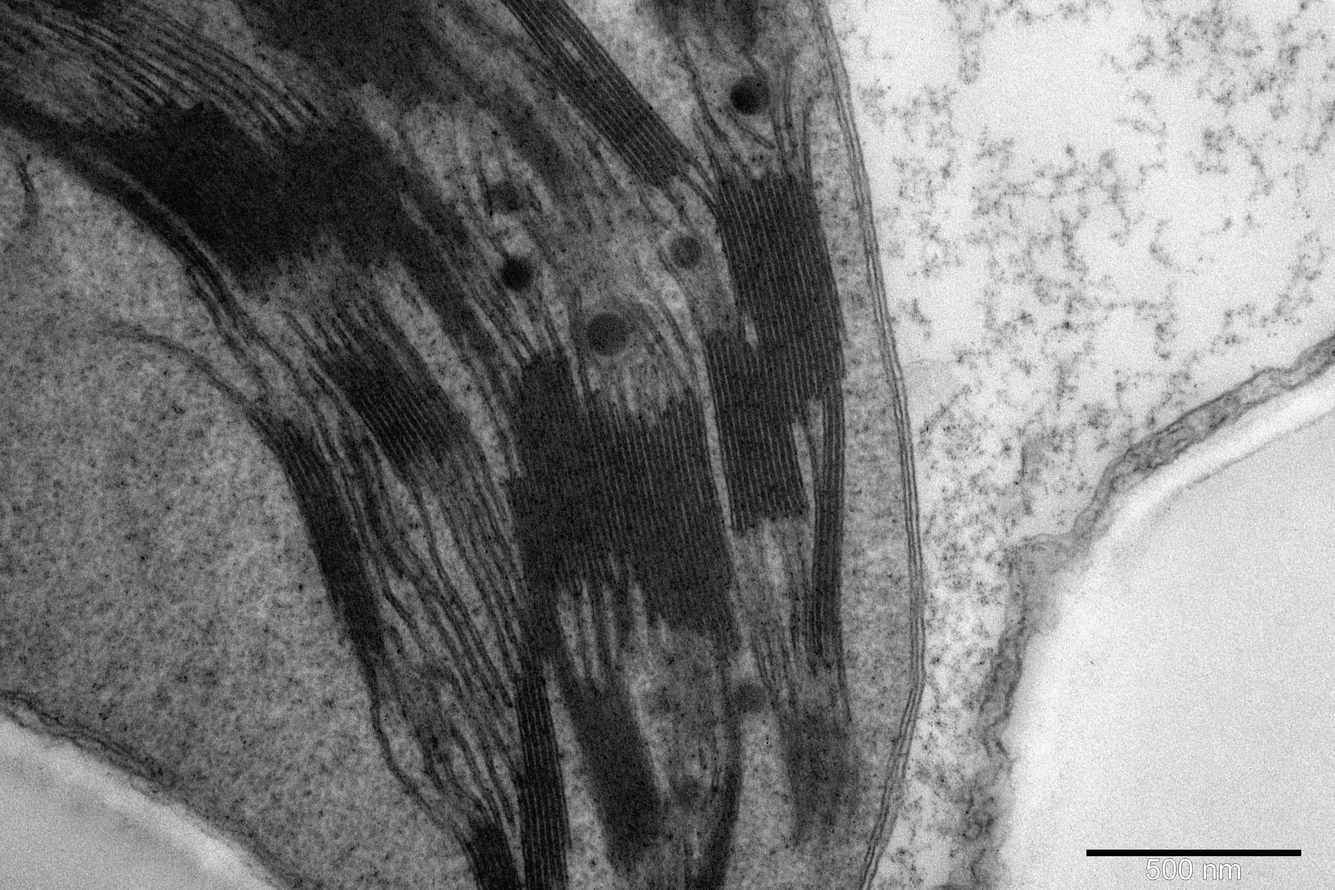granum: (496, 348, 749, 703), (703, 168, 850, 537), (266, 103, 483, 344), (95, 95, 332, 293), (498, 0, 696, 189), (252, 414, 386, 662), (231, 0, 435, 114), (318, 335, 457, 484), (561, 683, 666, 875), (509, 666, 575, 890), (84, 164, 210, 273), (482, 85, 586, 198), (804, 401, 847, 662), (0, 85, 76, 160), (459, 825, 523, 890), (683, 830, 733, 890)
